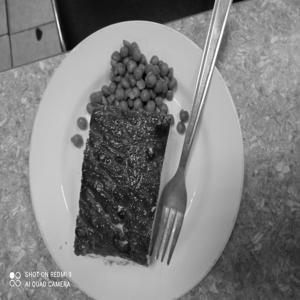casserole: (60, 40, 202, 272)
